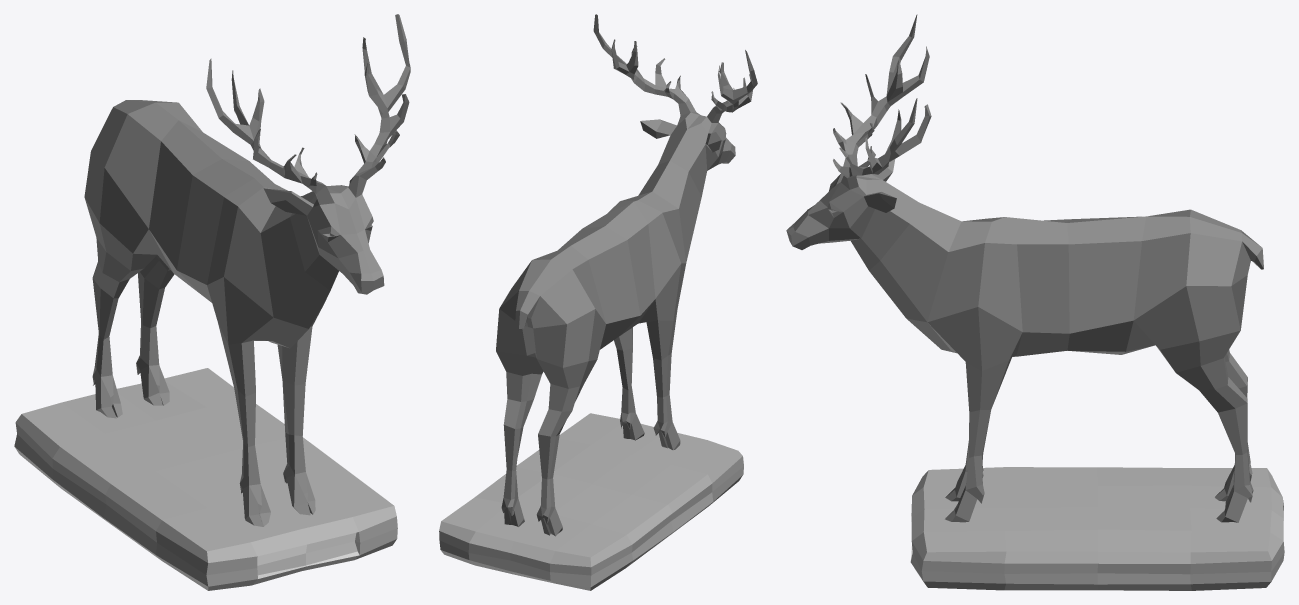
The model's file is moose.fbx.
The picture shows the model from 3 angles, left to right: view 1: azimuth 30°, elevation 25°; view 2: azimuth 150°, elevation 25°; view 3: azimuth 270°, elevation 25°; orthographic projection. The views are drawn at different scales.
Visible parts, largest first — view 1: moose; view 2: moose; view 3: moose.
Boxes of the visible parts, left/top/right/bottom form: moose: left=14, top=14, right=410, bottom=590; moose: left=439, top=14, right=757, bottom=590; moose: left=786, top=14, right=1284, bottom=590.
Bounding box in the file's own units: 112 × 283 × 259.
Materials: 1 (1 with a texture image).
